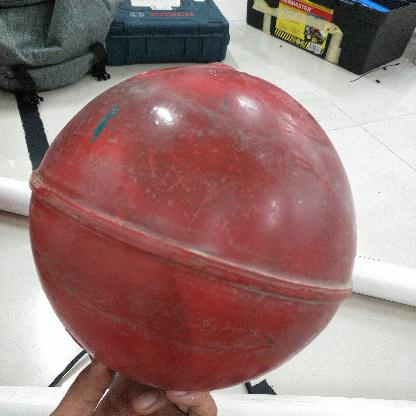red_buoy: (27, 59, 360, 389)
